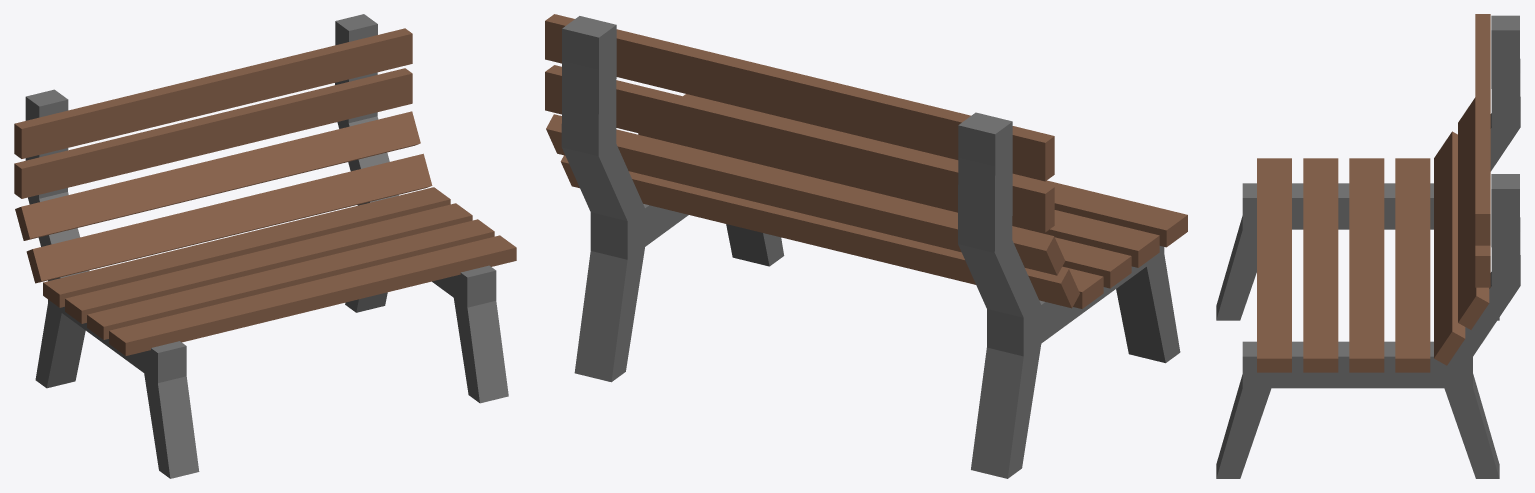
The model's file is ParkBench.fbx.
The picture shows the model from 3 angles, left to right: view 1: azimuth 30°, elevation 25°; view 2: azimuth 150°, elevation 25°; view 3: azimuth 270°, elevation 25°; orthographic projection. The views are drawn at different scales.
Visible parts, largest first — view 1: pCube12; view 2: pCube12; view 3: pCube12.
Part boxes in pixels (x1,y1,x2,y2): pCube12: (14, 14, 516, 478); pCube12: (545, 14, 1187, 478); pCube12: (1216, 14, 1520, 478).
Bounding box in the file's own units: 30.49 × 20.6 × 19.59.
